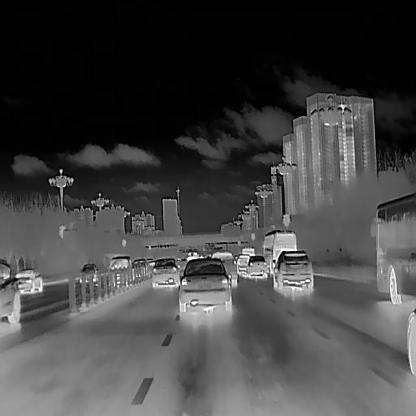bus: (368, 191, 416, 304), (260, 227, 296, 273), (241, 245, 254, 256)
car: (178, 258, 232, 311), (272, 248, 312, 288), (0, 258, 23, 325), (207, 250, 238, 288), (152, 257, 180, 287), (13, 268, 42, 292), (108, 256, 131, 286), (244, 254, 266, 278), (234, 252, 252, 275), (130, 256, 148, 278), (79, 262, 98, 282)
truck: (185, 249, 197, 260)
